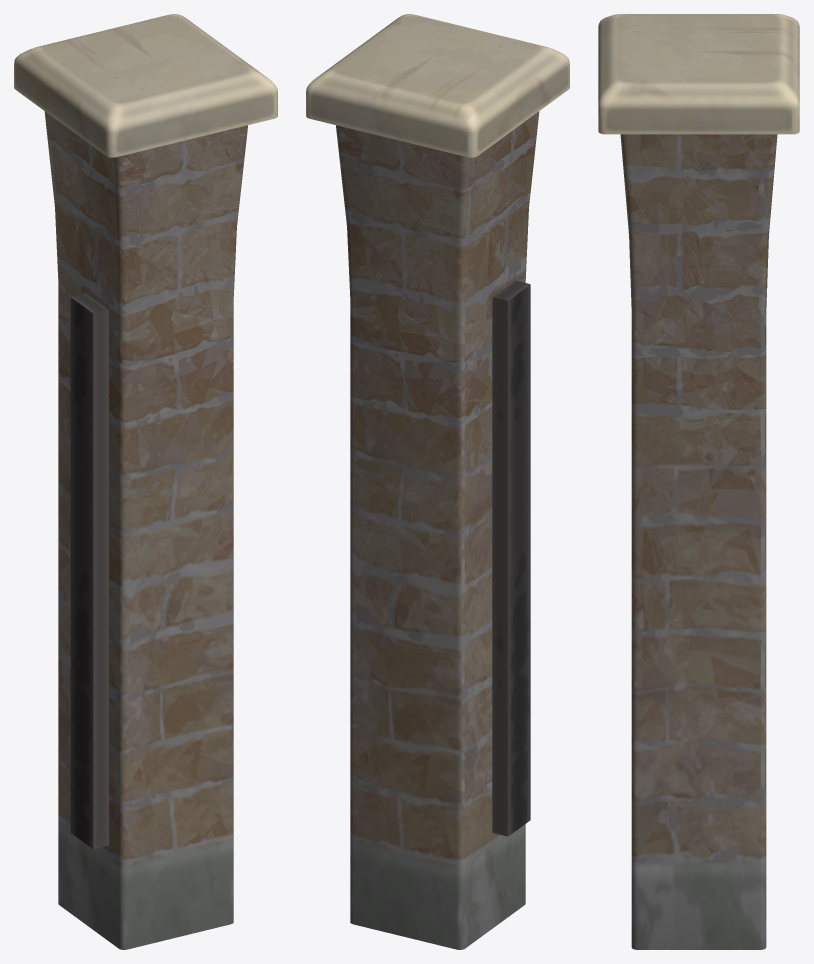
The model's file is StreetFence02_A5.FBX.
3 renders of one model, left to right at view 1: azimuth 30°, elevation 25°; view 2: azimuth 150°, elevation 25°; view 3: azimuth 270°, elevation 25°, orthographic. The views are drawn at different scales.
Visible parts, largest first — view 1: StreetFence02_A5; view 2: StreetFence02_A5; view 3: StreetFence02_A5.
Boxes of the visible parts, x1,y1,x2,y2 form: StreetFence02_A5: (14, 14, 277, 949); StreetFence02_A5: (306, 14, 569, 949); StreetFence02_A5: (598, 14, 799, 949).
Size of what is drawn, in the model's own units: 0.4485 by 2.14 by 0.4485.
